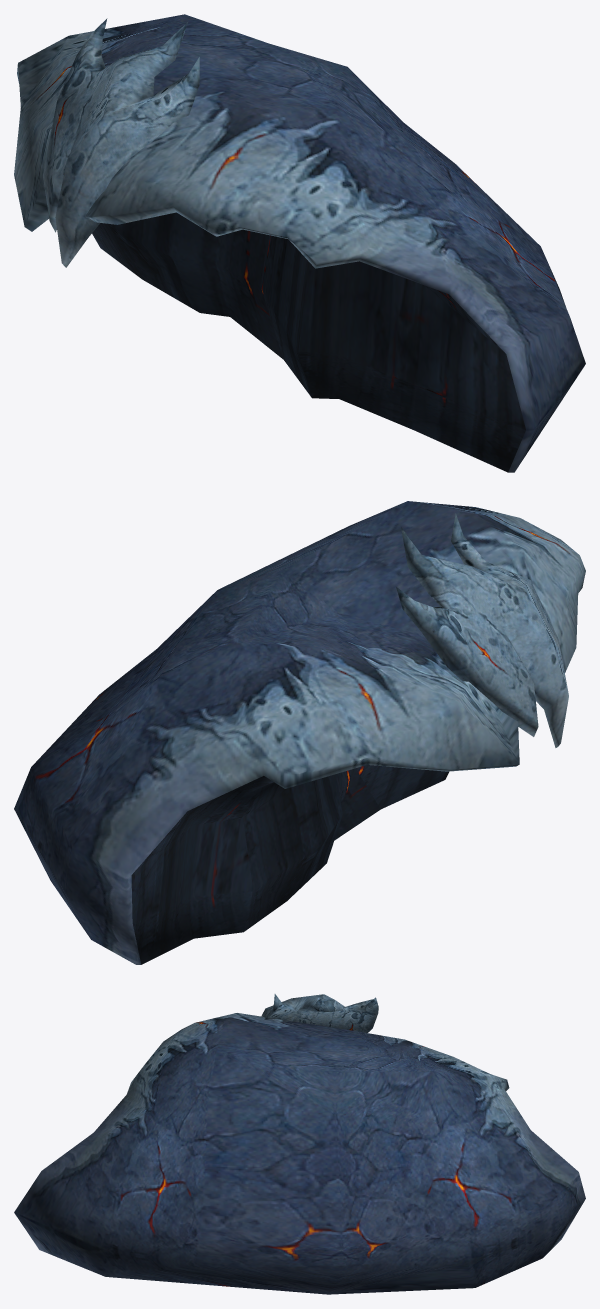
File: Vo_N_WaveLandform03.FBX
3 renders of one model, top to bottom at view 1: azimuth 30°, elevation 25°; view 2: azimuth 150°, elevation 25°; view 3: azimuth 270°, elevation 25°, orthographic. The views are drawn at different scales.
Parts seen in each view (by area): view 1: Vo_N_WaveLandform03; view 2: Vo_N_WaveLandform03; view 3: Vo_N_WaveLandform03.
Boxes of the visible parts, x1=… form: Vo_N_WaveLandform03: x1=14, y1=14, x2=585, y2=472; Vo_N_WaveLandform03: x1=14, y1=501, x2=585, y2=964; Vo_N_WaveLandform03: x1=14, y1=994, x2=585, y2=1294.
Size of the model in its own units: 864 by 593 by 1425.
